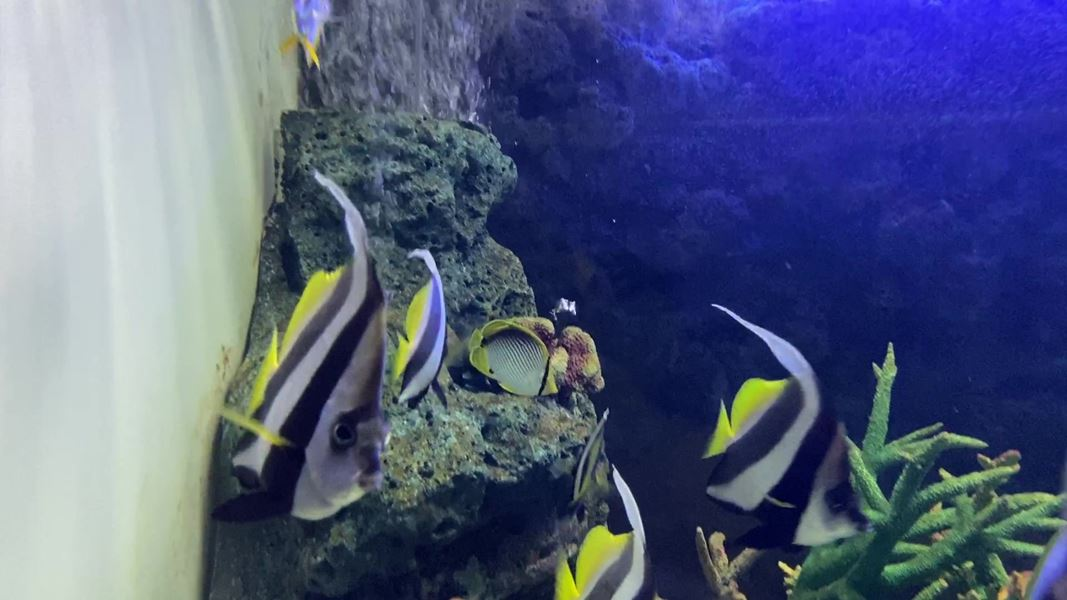Black-backed butterflyfish: (453, 312, 568, 404)
